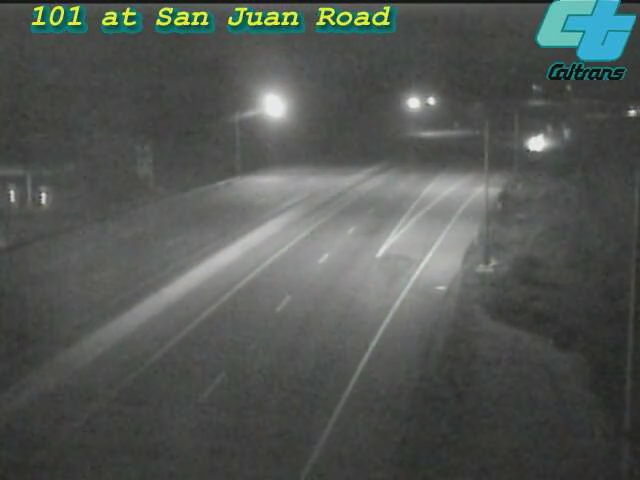vehicle: (511, 119, 561, 169), (608, 87, 640, 137)
